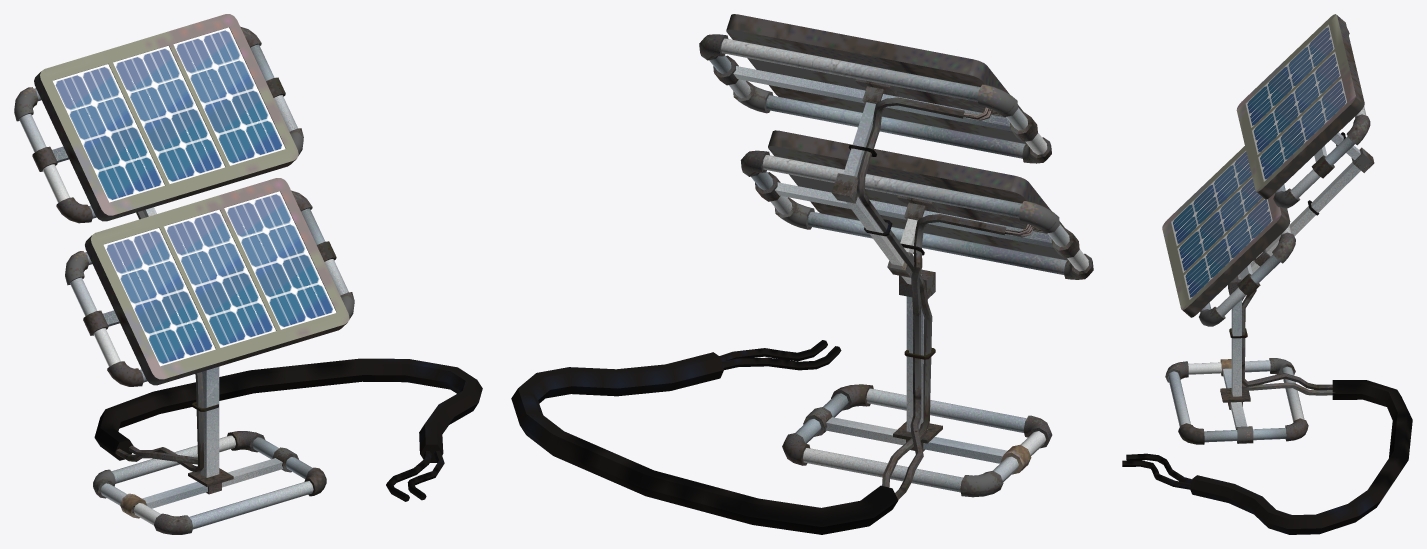
File: title-solar.glb
3 renders of one model, left to right at view 1: azimuth 30°, elevation 25°; view 2: azimuth 150°, elevation 25°; view 3: azimuth 270°, elevation 25°, orthographic. The views are drawn at different scales.
Visible parts, largest first — view 1: solarPanel.006; view 2: solarPanel.006; view 3: solarPanel.006.
Boxes of the visible parts, box(x1,y1,x2,y2) form: solarPanel.006: box(14, 14, 482, 534); solarPanel.006: box(511, 14, 1093, 534); solarPanel.006: box(1122, 14, 1412, 534).
Bounding box in the file's own units: 2.18 × 1.92 × 1.44.
1 material, 1 textured.
